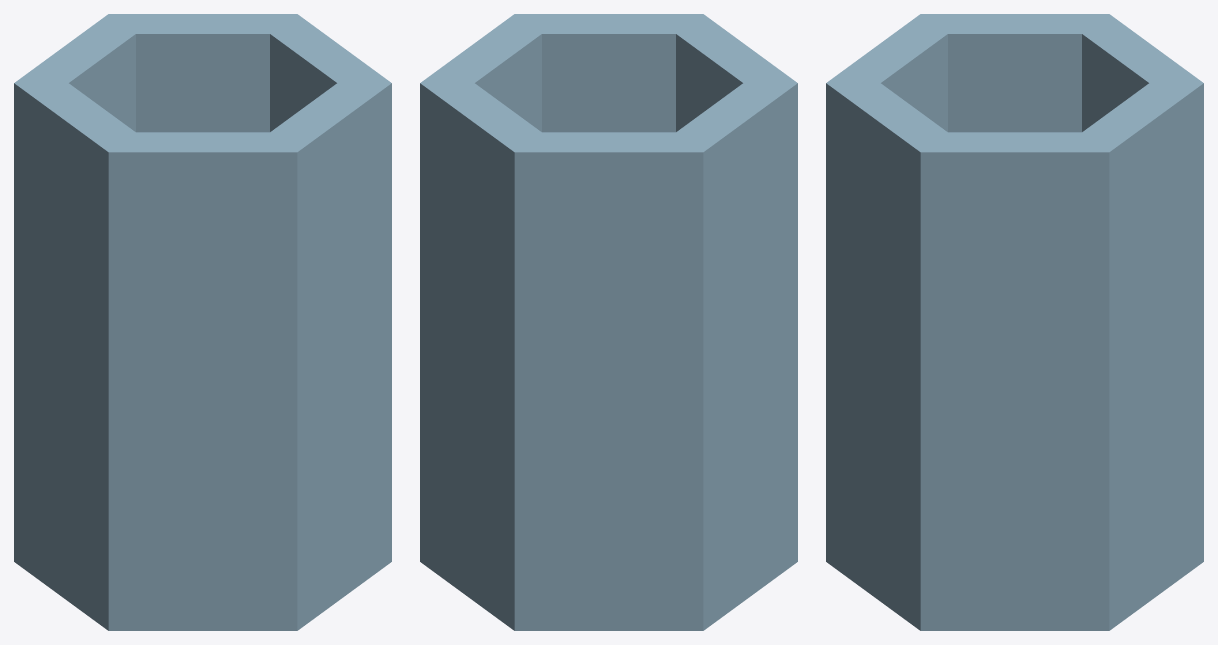
Rendered from bar-glass.glb.
The picture shows the model from 3 angles, left to right: view 1: azimuth 30°, elevation 25°; view 2: azimuth 150°, elevation 25°; view 3: azimuth 270°, elevation 25°; orthographic projection.
Visible parts, largest first — view 1: glass; view 2: glass; view 3: glass.
Part boxes in pixels (<box>): glass: <box>14,14,391,630</box>; glass: <box>420,14,797,630</box>; glass: <box>826,14,1203,630</box>.
Size of the model in its own units: 0.0706 by 0.114 by 0.0816.
